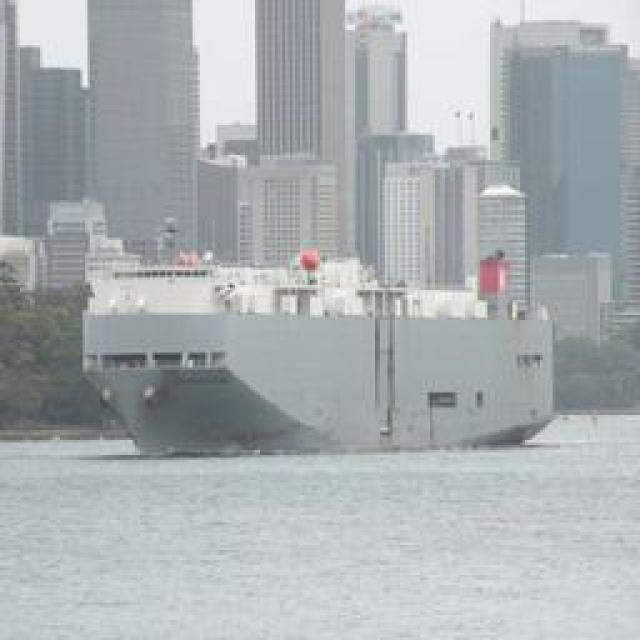Ship: (80, 261, 550, 459)
